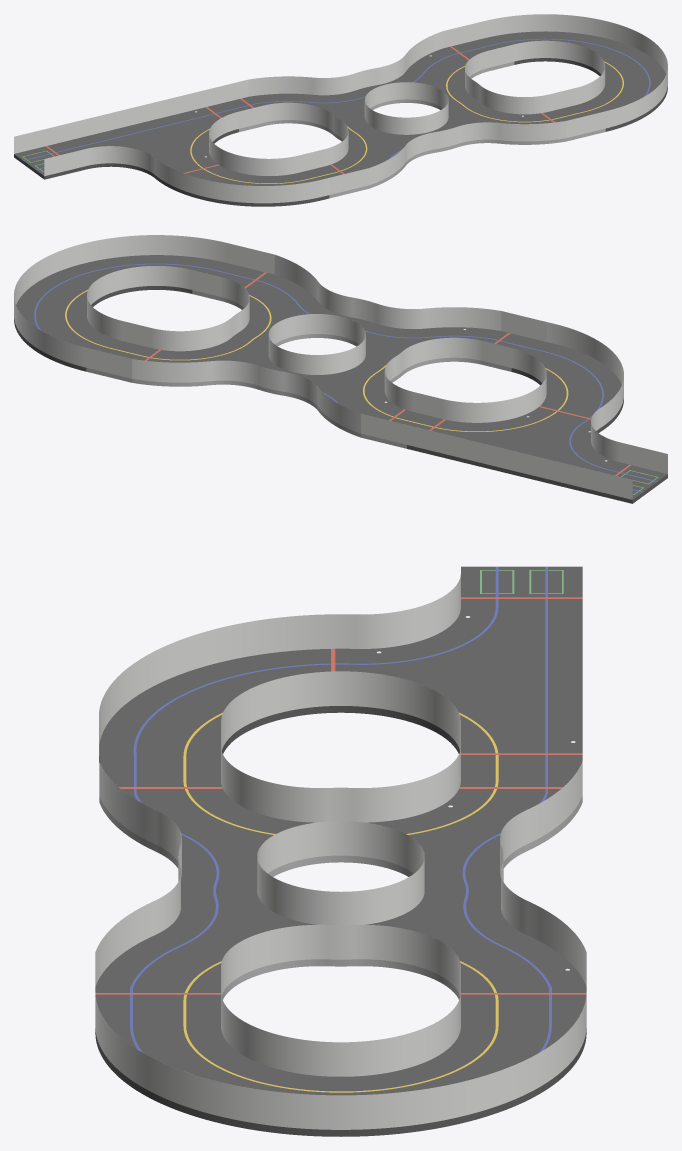
Rendered from Small_roundabout.dae.
3 renders of one model, top to bottom at view 1: azimuth 30°, elevation 25°; view 2: azimuth 150°, elevation 25°; view 3: azimuth 270°, elevation 25°, orthographic. The views are drawn at different scales.
Visible parts, largest first — view 1: Small Roundabout; view 2: Small Roundabout; view 3: Small Roundabout.
Part boxes in pixels (x1=…): Small Roundabout: x1=14, y1=14, x2=667, y2=206; Small Roundabout: x1=14, y1=235, x2=667, y2=503; Small Roundabout: x1=95, y1=566, x2=586, y2=1136.
Bounding box in the file's own units: 8.89 × 3.28 × 0.3048.
